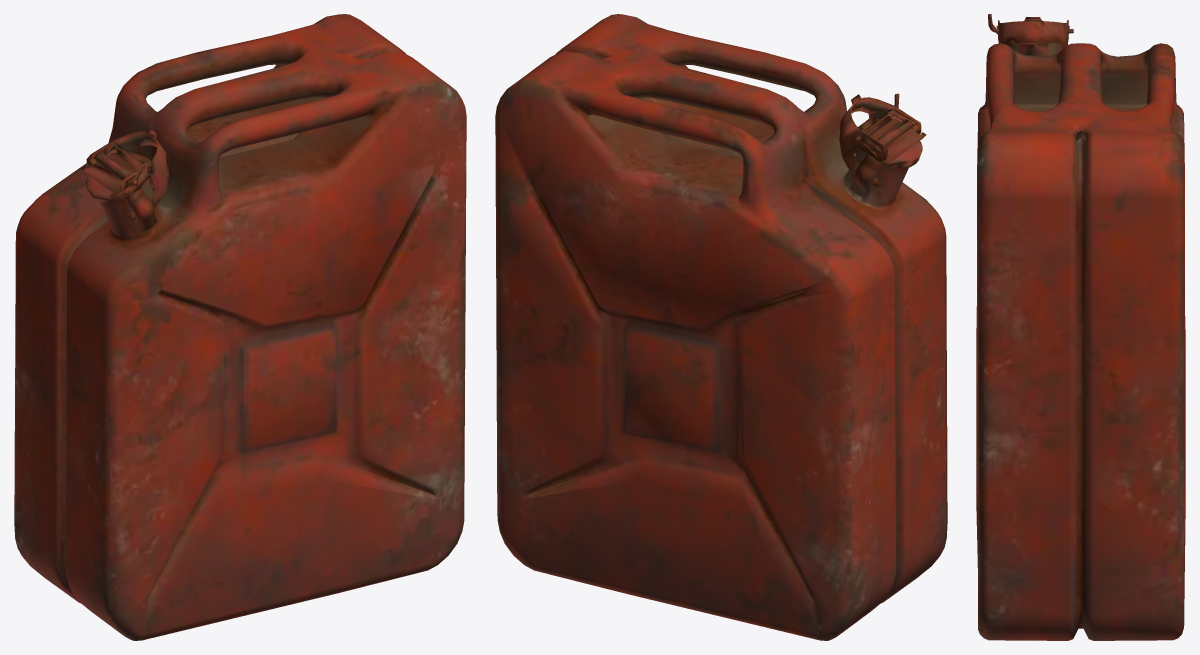
File: jerrycan.glb
3 views of the same model, side by side, from view 1: azimuth 30°, elevation 25°; view 2: azimuth 150°, elevation 25°; view 3: azimuth 270°, elevation 25° (orthographic). The views are drawn at different scales.
Parts seen in each view (by area): view 1: metal_jerrycan; view 2: metal_jerrycan; view 3: metal_jerrycan.
Boxes of the visible parts, <box> form: metal_jerrycan: <box>14,14,466,640</box>; metal_jerrycan: <box>495,14,947,640</box>; metal_jerrycan: <box>976,14,1185,640</box>.
Bounding box in the file's own units: 0.35 × 0.4548 × 0.1717.
Materials: 1 (1 with a texture image).
